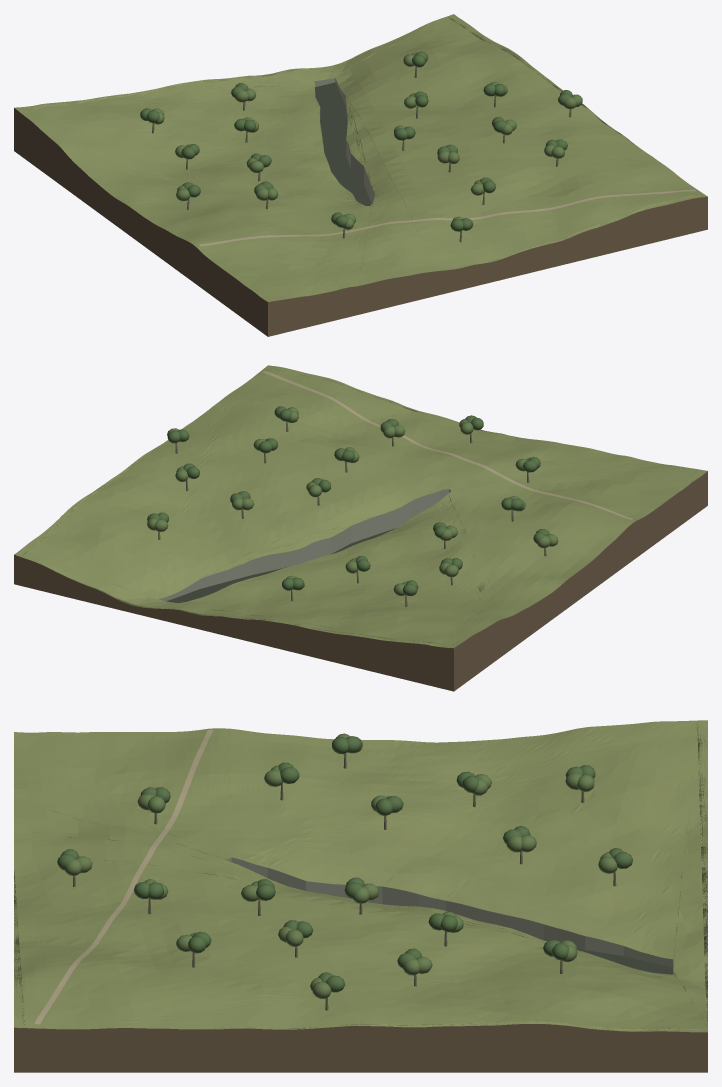
File: gms-13.glb
3 views of the same model, one above another, from view 1: azimuth 30°, elevation 25°; view 2: azimuth 150°, elevation 25°; view 3: azimuth 270°, elevation 25° (orthographic). The views are drawn at different scales.
Parts seen in each view (by area): view 1: GMS-13 - estudio del paisaje; view 2: GMS-13 - estudio del paisaje; view 3: GMS-13 - estudio del paisaje.
Boxes of the visible parts, bbox=[...] form: GMS-13 - estudio del paisaje: bbox=[14, 14, 707, 336]; GMS-13 - estudio del paisaje: bbox=[14, 365, 707, 691]; GMS-13 - estudio del paisaje: bbox=[14, 720, 707, 1072].
Bounding box in the file's own units: 12 × 1.57 × 12.
